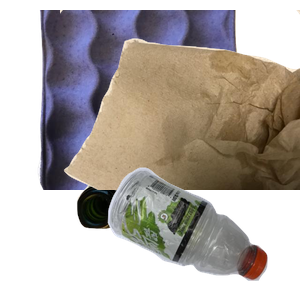glass: (74, 158, 223, 300)
paper: (35, 10, 268, 190)
plastic: (105, 165, 300, 300)
trash: (60, 10, 300, 190)
